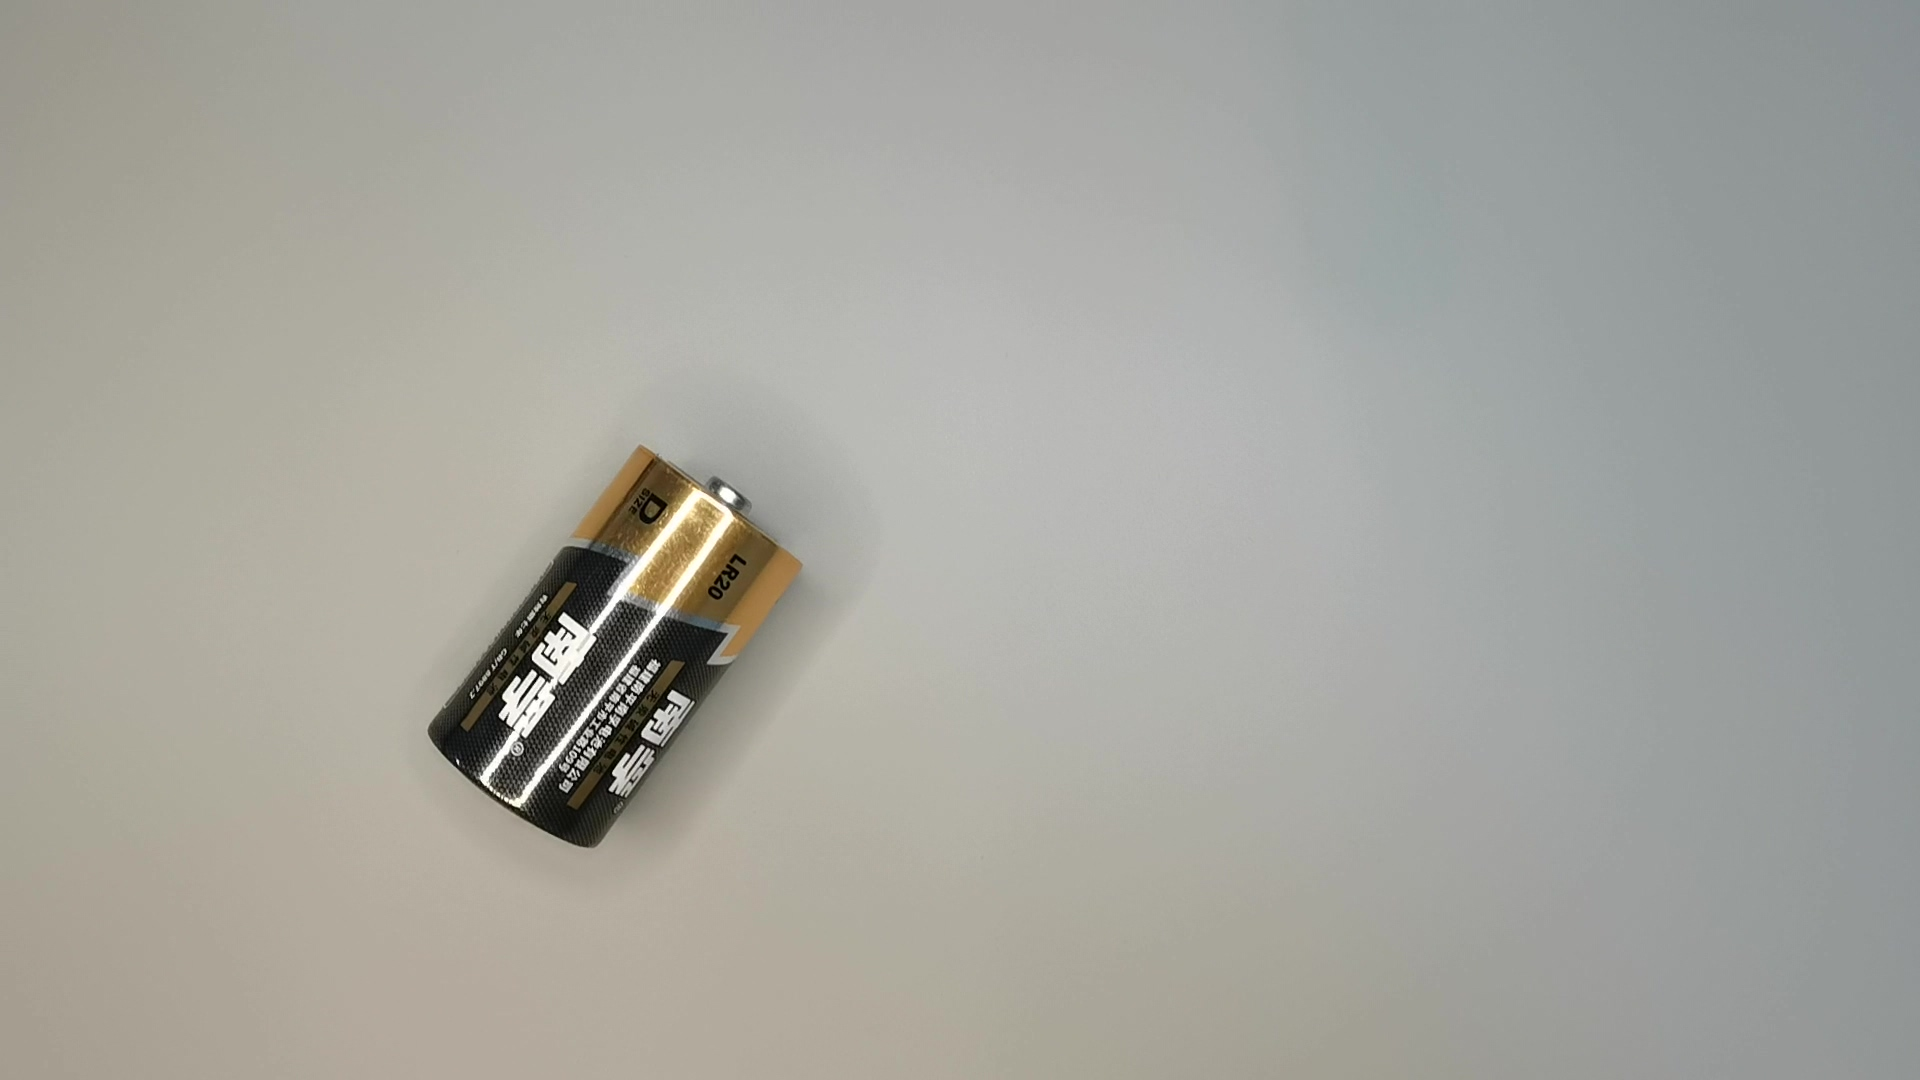battery: (426, 443, 812, 857)
